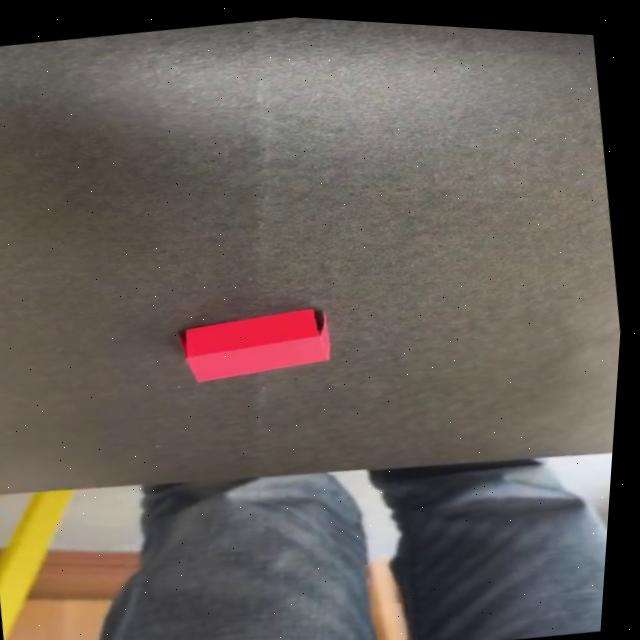red block: (176, 298, 340, 394)
